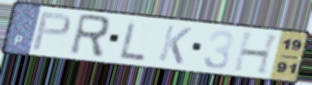3: (203, 29, 236, 70)
H: (230, 30, 283, 77)
K: (156, 23, 194, 67)
L: (119, 18, 148, 62)
P: (30, 11, 73, 52)
R: (66, 12, 113, 60)
